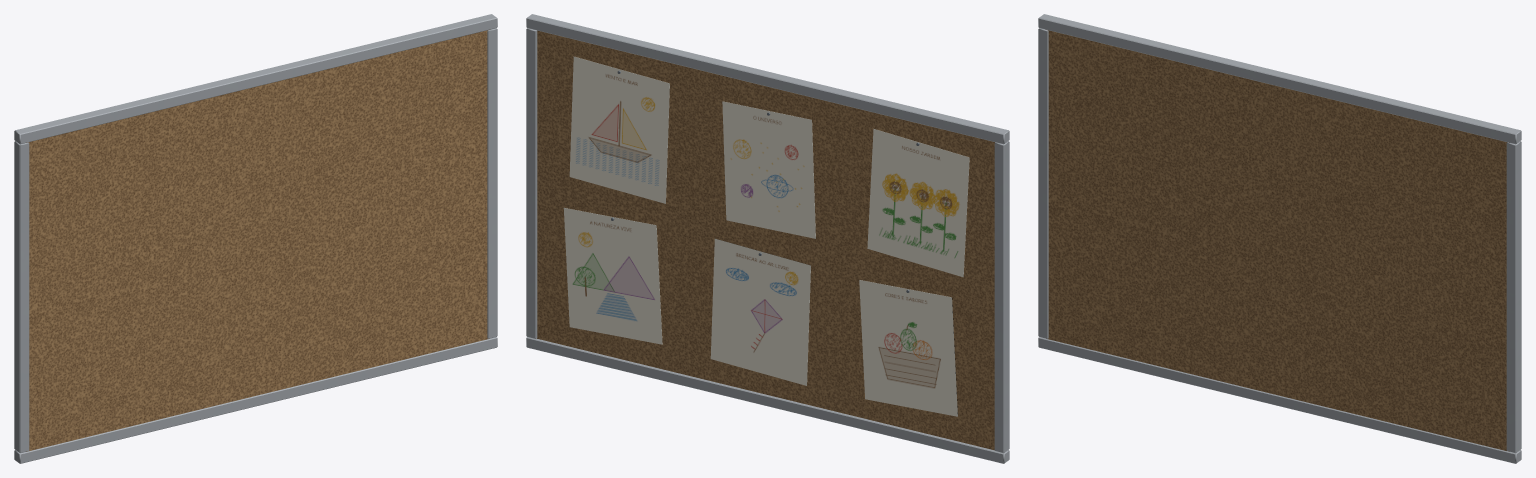
The model's file is mural_corredor_variacao_realista.glb.
3 views of the same model, side by side, from view 1: azimuth 30°, elevation 25°; view 2: azimuth 150°, elevation 25°; view 3: azimuth 330°, elevation 25° (orthographic).
Visible parts, largest first — view 1: Mural_Corredor_Variacao; view 2: Mural_Corredor_Variacao; view 3: Mural_Corredor_Variacao.
Part boxes in pixels (<box>): Mural_Corredor_Variacao: <box>14,14,497,463</box>; Mural_Corredor_Variacao: <box>526,14,1009,463</box>; Mural_Corredor_Variacao: <box>1038,14,1521,463</box>.
Size of the model in its own units: 1.44 by 0.95 by 0.0313.
Materials: 1 (1 with a texture image).
